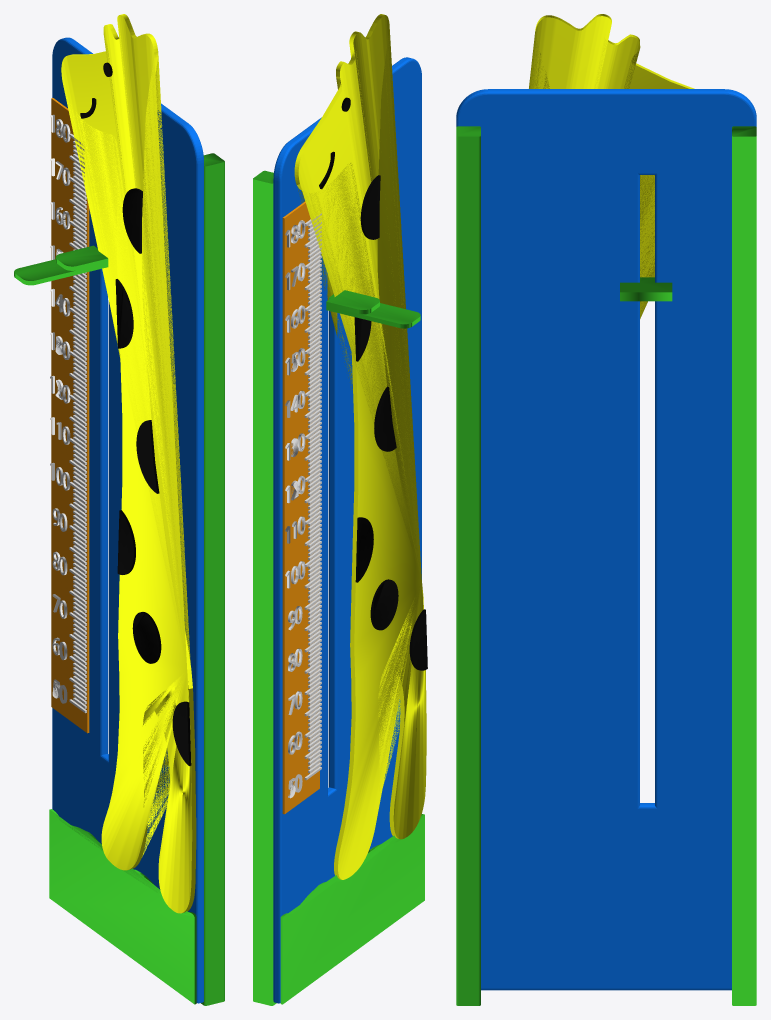
3 renders of one model, left to right at view 1: azimuth 30°, elevation 25°; view 2: azimuth 150°, elevation 25°; view 3: azimuth 270°, elevation 25°, orthographic. The views are drawn at different scales.
Parts seen in each view (by area): view 1: D_118; view 2: D_118; view 3: D_118.
Part boxes in pixels (x1,y1,x2,y2): D_118: (14,14,224,1005); D_118: (253,14,427,1005); D_118: (456,14,756,1005).
Size of the model in its own units: 27.5 by 217 by 60.5.
